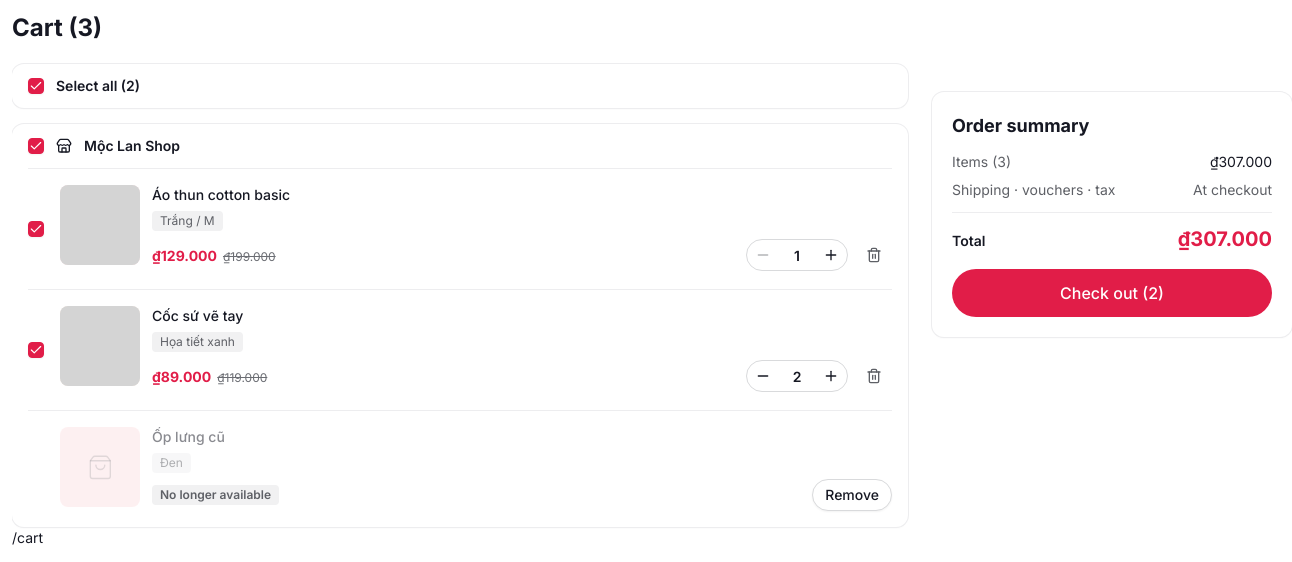
Scenario: CartPage › stepper › shows the new quantity right away and sends it with PUT cart/items
Expected: the heading "Cart (3)" is shown, [12,13,102,42]
Click the button named "Increase quantity" in the row of "₫199.000" at point(831, 255), box [815,239,847,271]
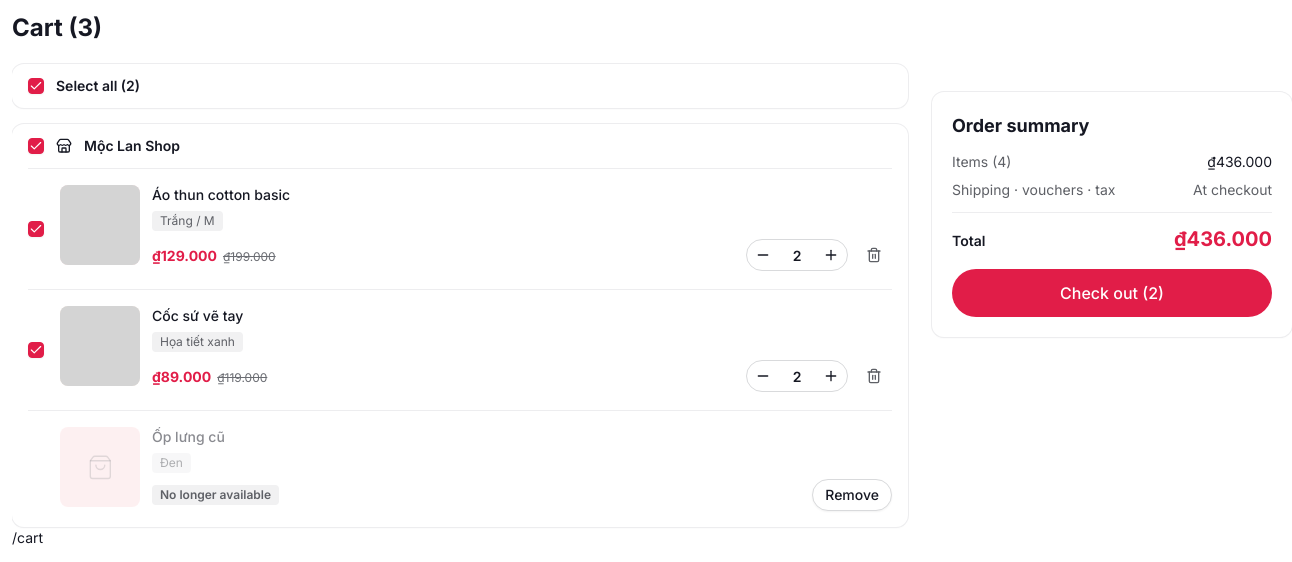
Result: the text with test id "total" reads "₫436.000" at [1174,227,1272,251]
